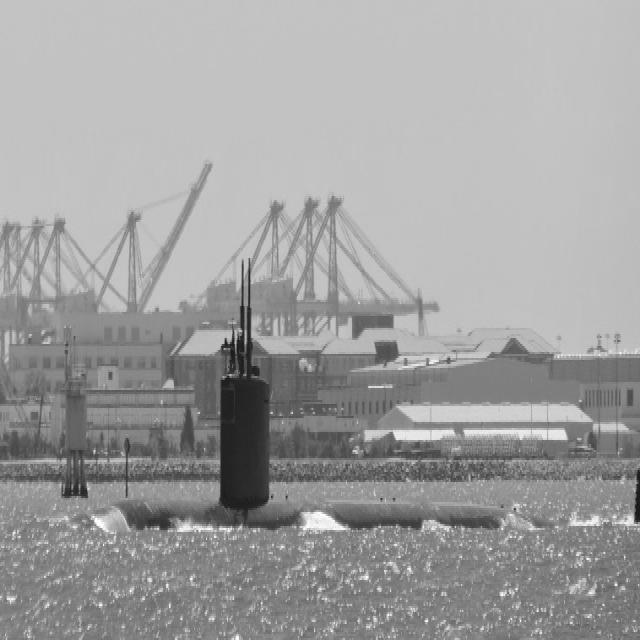submarine: (116, 385, 640, 533)
